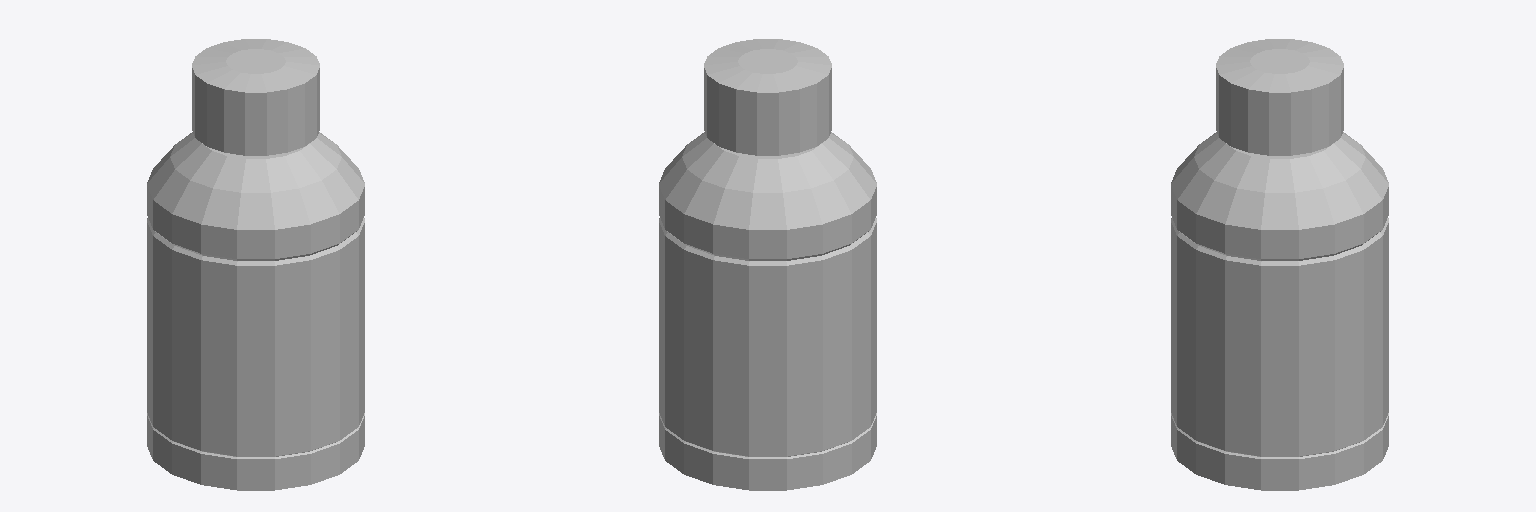
The model's file is Medkit_small.obj.
3 views of the same model, side by side, from view 1: azimuth 30°, elevation 25°; view 2: azimuth 150°, elevation 25°; view 3: azimuth 270°, elevation 25° (orthographic).
Visible parts, largest first — view 1: medkit_small_low_Cylinder.005; view 2: medkit_small_low_Cylinder.005; view 3: medkit_small_low_Cylinder.005.
Part boxes in pixels (bbox=[...]): medkit_small_low_Cylinder.005: bbox=[147, 39, 364, 490]; medkit_small_low_Cylinder.005: bbox=[659, 39, 876, 490]; medkit_small_low_Cylinder.005: bbox=[1171, 39, 1388, 490].
Size of the model in its own units: 0.0577 by 0.1149 by 0.0586.